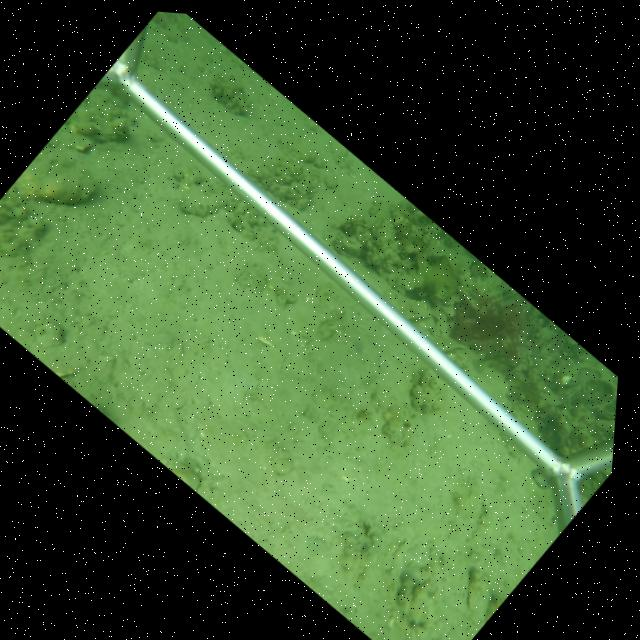Oyster-Closed: (18, 161, 101, 206), (408, 313, 433, 323)
